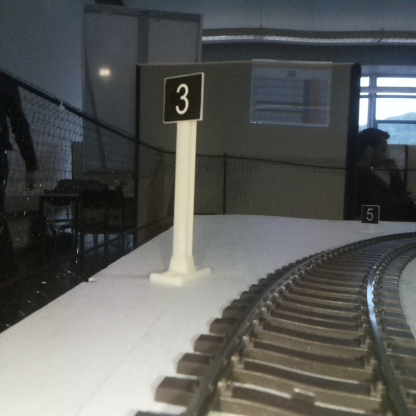black-info-3: (163, 74, 201, 281)
black-stop-5: (361, 204, 378, 233)
